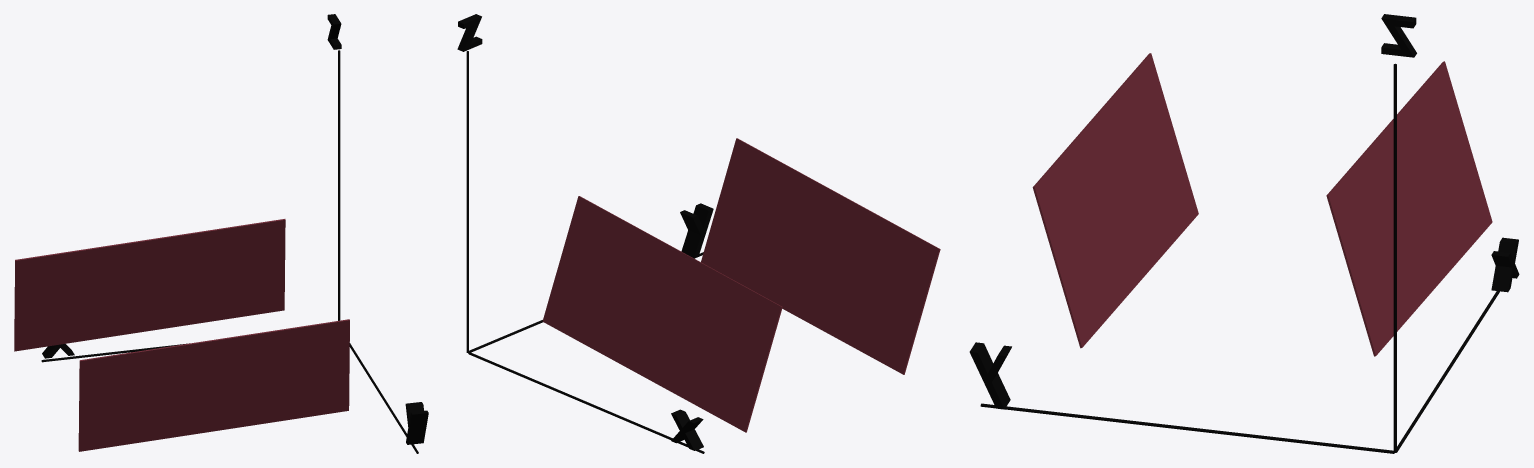
The model's file is con2.gltf.
The picture shows the model from 3 angles, left to right: view 1: azimuth 30°, elevation 25°; view 2: azimuth 150°, elevation 25°; view 3: azimuth 270°, elevation 25°; orthographic projection. The views are drawn at different scales.
Parts seen in each view (by area): view 1: Cube, Cube.001, Cylinder.002, Text; view 2: Cube.001, Cube, Cylinder.002, Text, x, Text.001; view 3: Cube, Cube.001, Cylinder.002, Text, x, Text.001.
Part boxes in pixels (left/top/right/bottom): Cube: left=78, top=319, right=349, bottom=451; Cube.001: left=14, top=219, right=285, bottom=351; Cylinder.002: left=41, top=50, right=418, bottom=453; Text: left=405, top=402, right=428, bottom=444; Cube.001: left=542, top=196, right=782, bottom=432; Cube: left=701, top=138, right=940, bottom=374; Cylinder.002: left=466, top=51, right=704, bottom=453; Text: left=680, top=203, right=713, bottom=258; x: left=671, top=409, right=703, bottom=450; Text.001: left=457, top=14, right=482, bottom=51; Cube: left=1032, top=53, right=1198, bottom=348; Cube.001: left=1326, top=61, right=1492, bottom=356; Cylinder.002: left=980, top=63, right=1499, bottom=453; Text: left=969, top=342, right=1011, bottom=409; x: left=1491, top=237, right=1519, bottom=292; Text.001: left=1381, top=14, right=1416, bottom=57.
Size of the model in its own units: 0.8612 by 0.728 by 0.8369.
